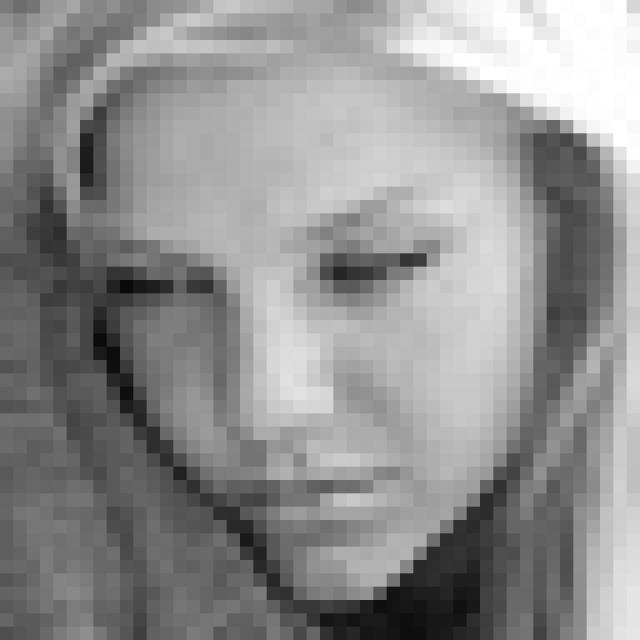sad: (105, 167, 475, 542)
